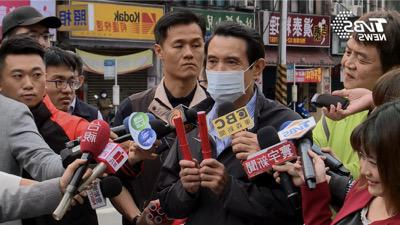with_mask: (204, 53, 247, 107)
without_mask: (161, 36, 204, 81), (0, 66, 46, 108), (340, 43, 374, 89), (358, 148, 384, 199), (47, 73, 76, 112)
